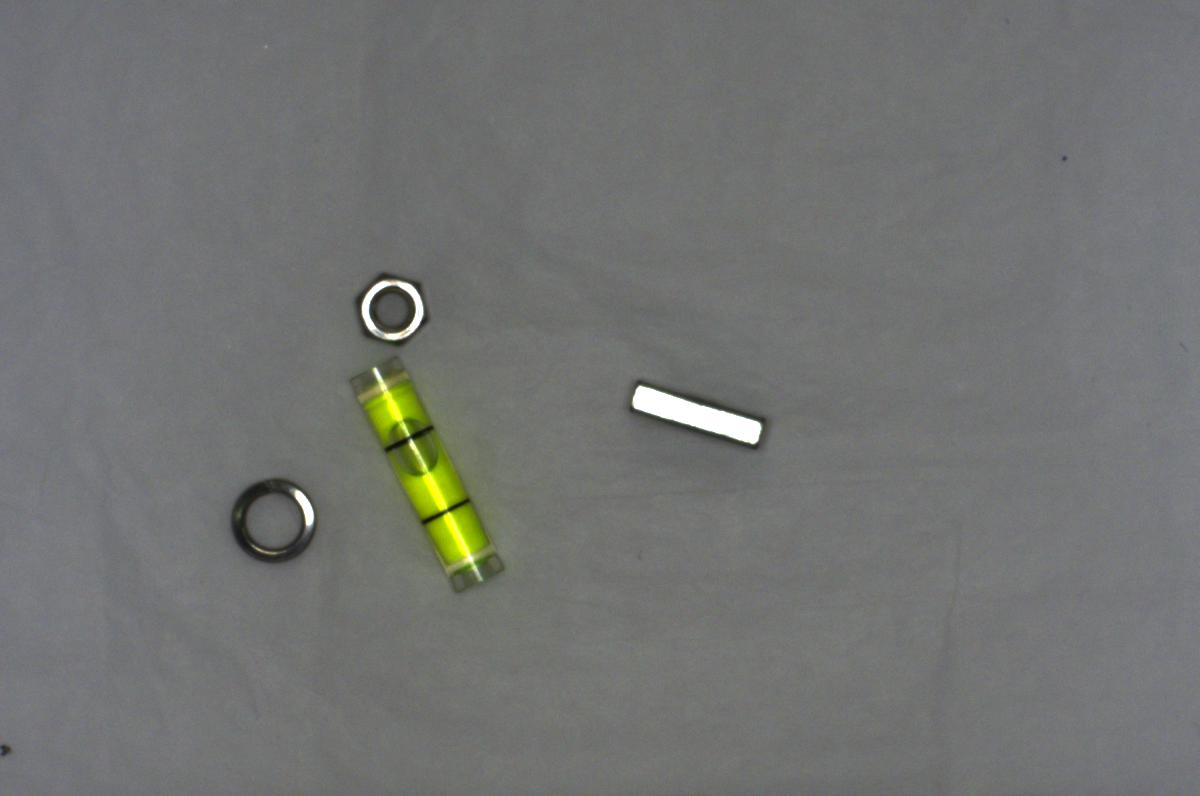Hexagon nut: (354, 268, 434, 349)
Horizontal bubble: (352, 350, 510, 600)
Rectangular nut: (618, 375, 767, 460)
Spring washer: (226, 469, 318, 565)
